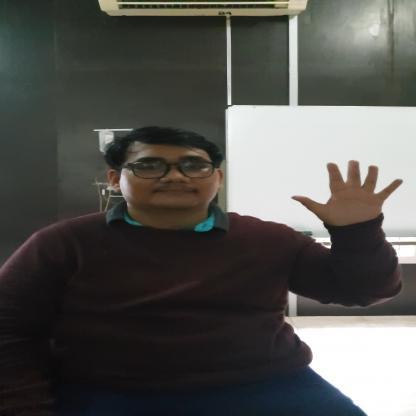Halo: (288, 156, 410, 230)
